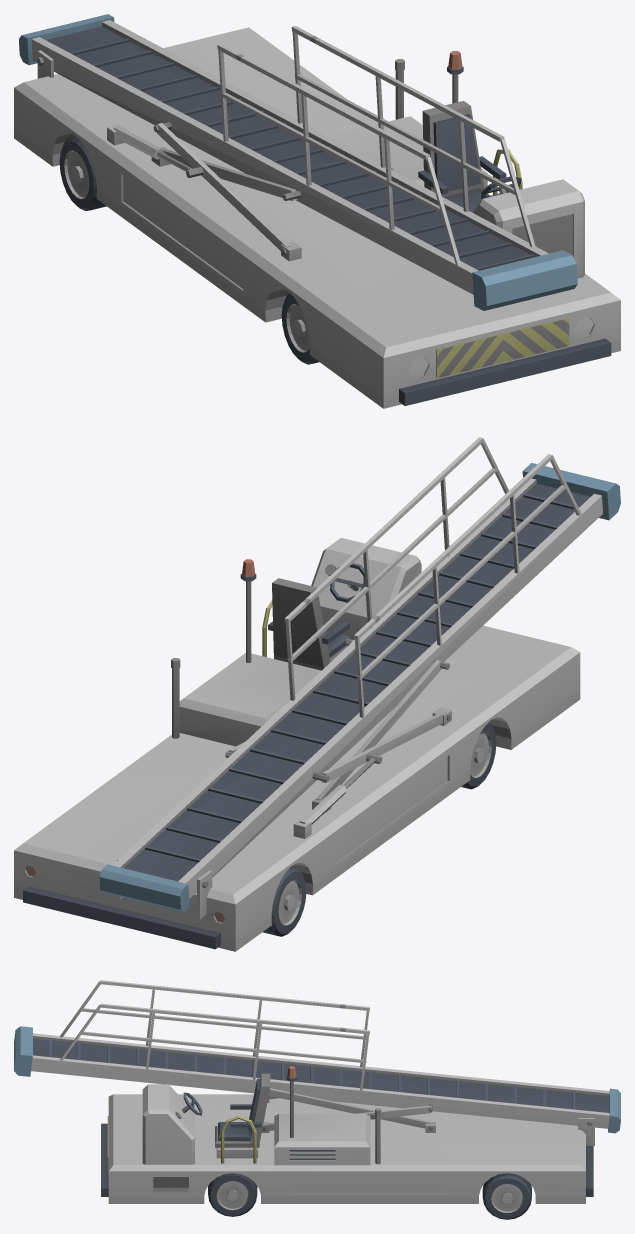
File: loader.glb
3 views of the same model, one above another, from view 1: azimuth 30°, elevation 25°; view 2: azimuth 150°, elevation 25°; view 3: azimuth 270°, elevation 25° (orthographic). The views are drawn at different scales.
Parts seen in each view (by area): view 1: loader; view 2: loader; view 3: loader.
Part boxes in pixels (<box>): loader: <box>14,14,620,408</box>; loader: <box>14,437,620,951</box>; loader: <box>14,980,620,1219</box>.
Size of the model in its own units: 2.3 by 2.55 by 7.89.
